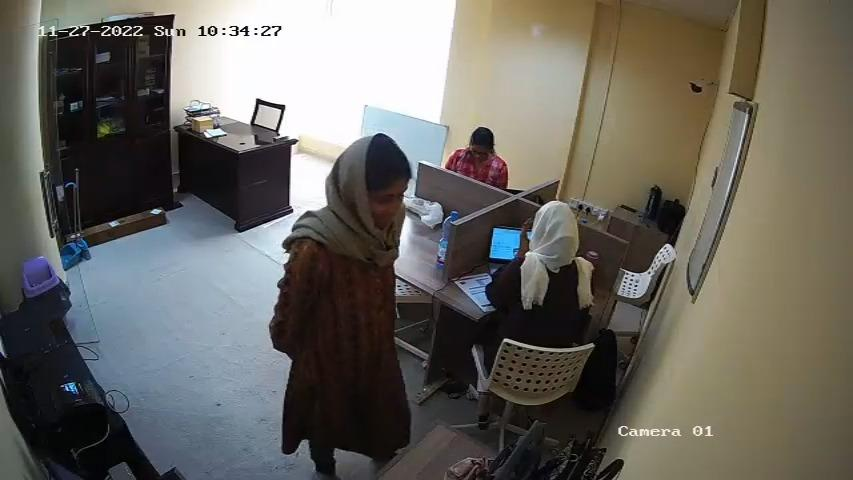no_apron: (292, 227, 395, 412)
